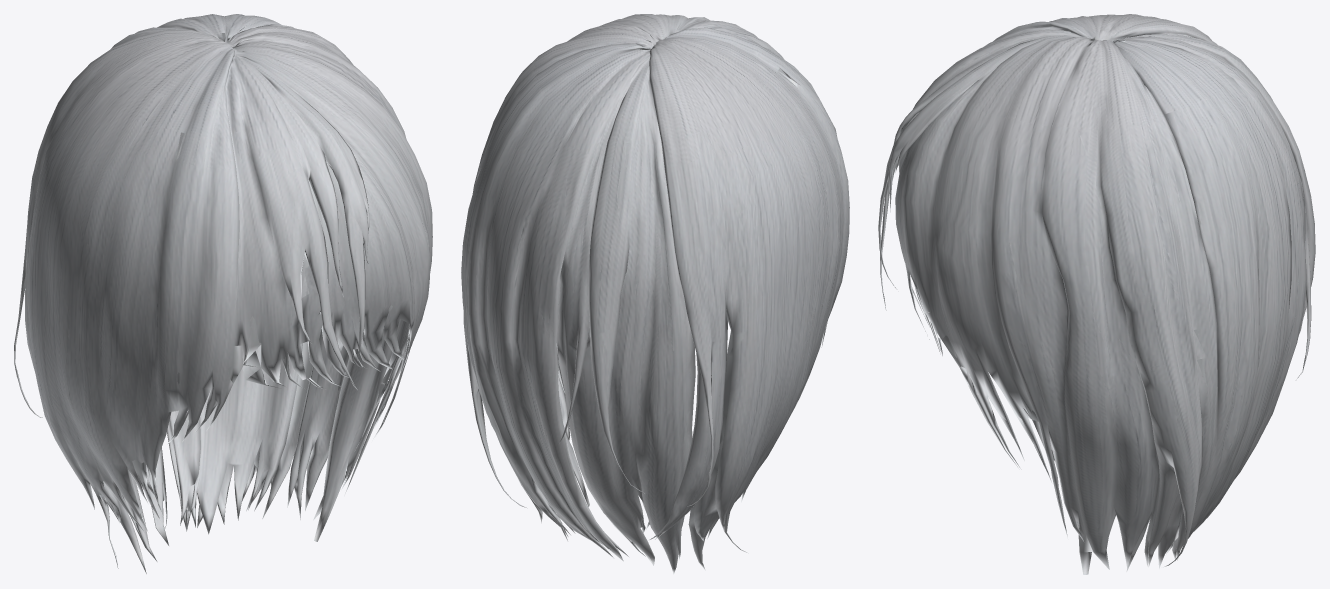
Rendered from hair-7.glb.
3 views of the same model, side by side, from view 1: azimuth 30°, elevation 25°; view 2: azimuth 150°, elevation 25°; view 3: azimuth 270°, elevation 25° (orthographic). The views are drawn at different scales.
Size of the model in its own units: 0.6216 by 0.9507 by 0.7241.
Materials: 1 (1 with a texture image).
